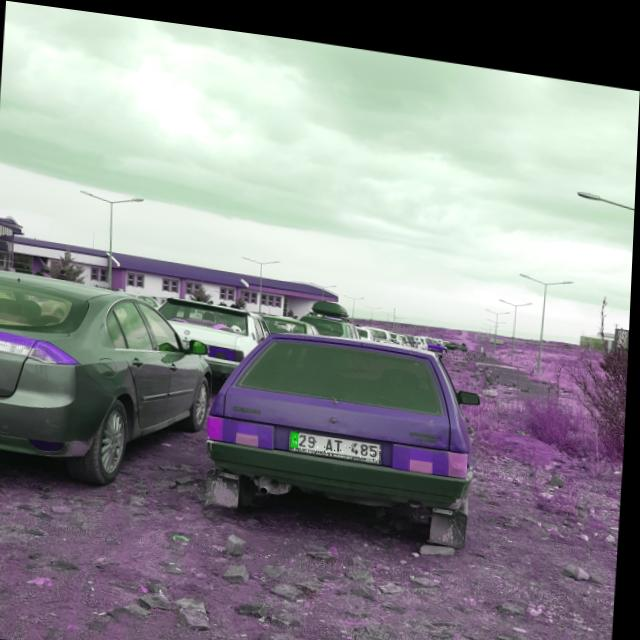license_plate: (293, 422, 384, 452)
